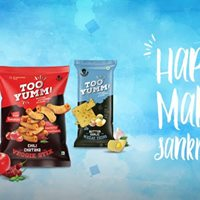plastic: (1, 66, 72, 166), (74, 60, 118, 145)
tooyumm: (14, 79, 56, 100), (82, 79, 114, 98)
wrapper: (2, 68, 71, 166), (77, 63, 116, 147)
